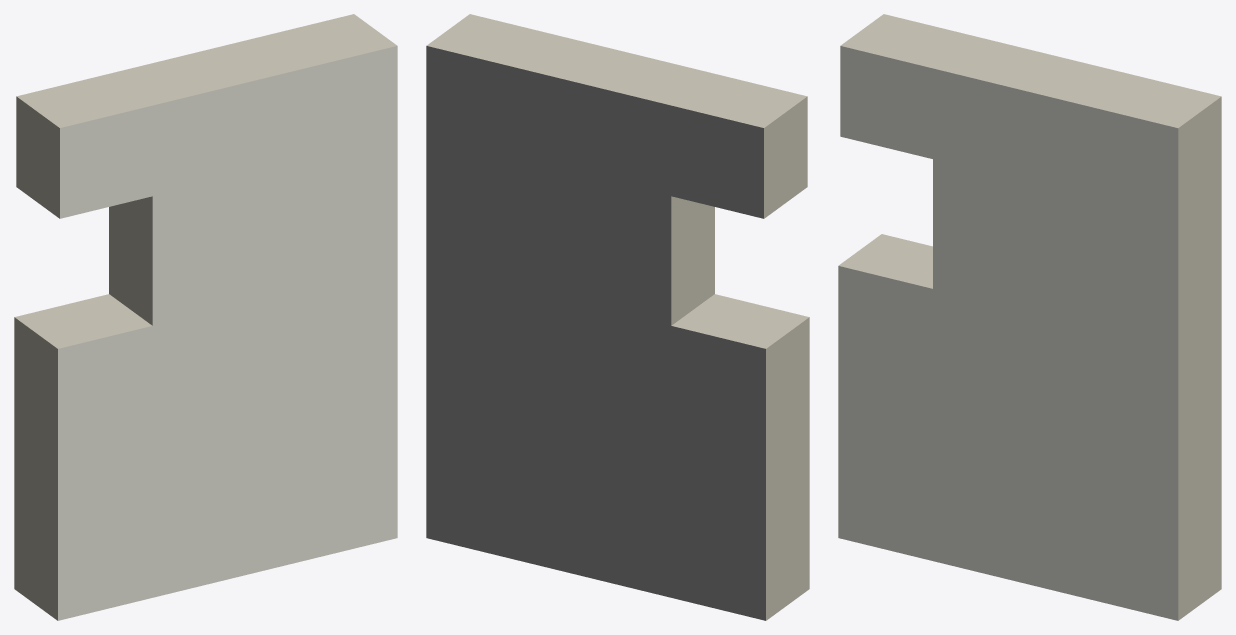
Rendered from room_envelope.obj.
3 renders of one model, left to right at view 1: azimuth 30°, elevation 25°; view 2: azimuth 150°, elevation 25°; view 3: azimuth 330°, elevation 25°, orthographic.
Visible parts, largest first — view 1: ceiling_000, wall_002, wall_007, wall_005, wall_006, wall_003; view 2: floor_000, wall_002, wall_007, wall_005, wall_006, wall_003; view 3: ceiling_000, wall_001, wall_002, wall_006.
Boxes of the visible parts, x1,y1,x2,y2 form: ceiling_000: (58,46,397,620); wall_002: (17,14,396,127); wall_007: (14,317,57,620); wall_005: (109,196,152,325); wall_006: (14,294,152,348); wall_003: (16,96,59,218); floor_000: (426,46,765,620); wall_002: (427,14,806,127); wall_007: (766,317,809,620); wall_005: (671,196,714,325); wall_006: (671,294,809,348); wall_003: (764,96,807,218); ceiling_000: (838,46,1178,620); wall_001: (1178,97,1221,620); wall_002: (840,14,1221,127); wall_006: (838,234,932,288).
Bounding box in the file's own units: 11.8 × 16.34 × 2.61.
